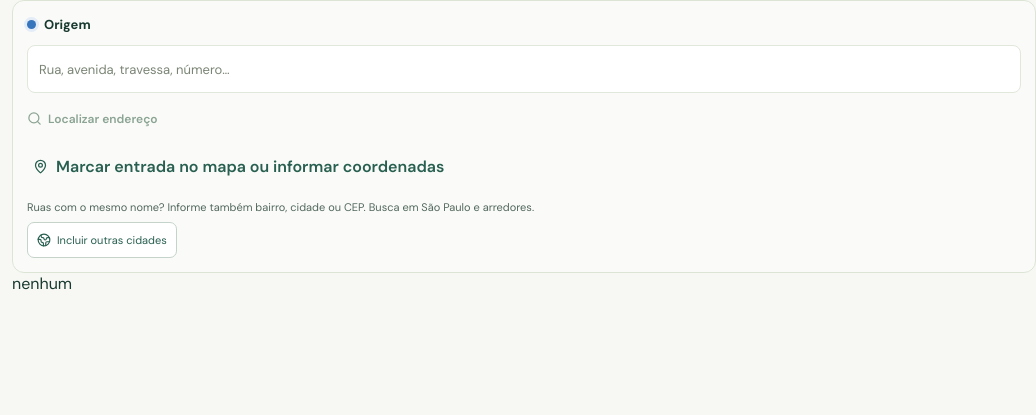
Test: permite escolher ruas homônimas em bairros diferentes sem perder as coordenadas
Step 1. Type "Rua dos Campos, 42" into the dropdown → (524, 68), box 28,46 -> 1020,92
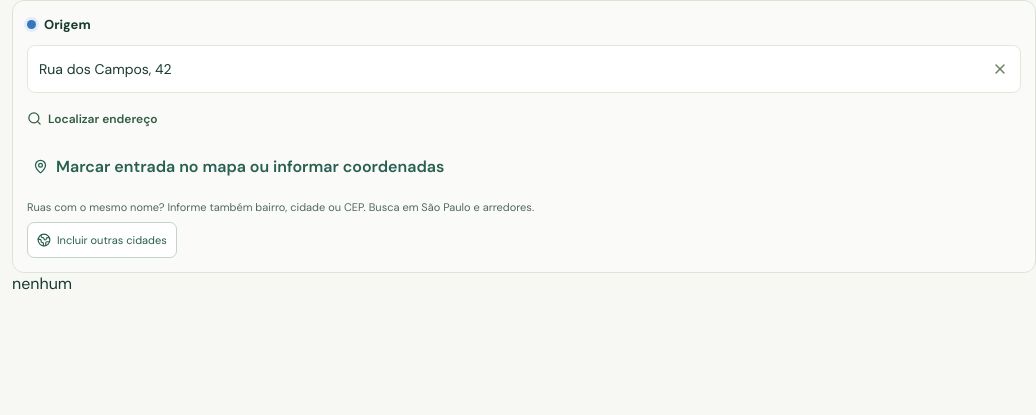
Step 2. Click the button with aria-label "Localizar origem" → (92, 114), box 27,92 -> 158,136
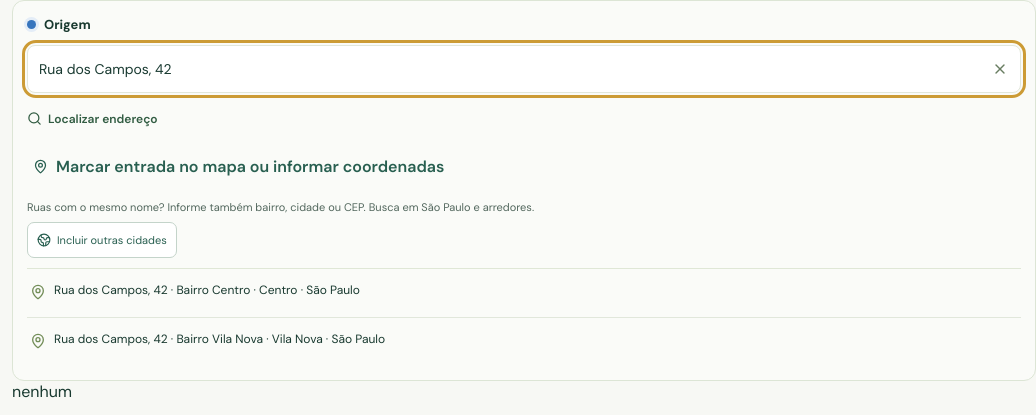
expect the option "Rua dos Campos, 42 · Bairro Centro · Centro · São Paulo" is shown: met, box 27,269 -> 1021,317
Step 3. Click the option "Vila Nova" → (220, 339), box 27,318 -> 1021,366
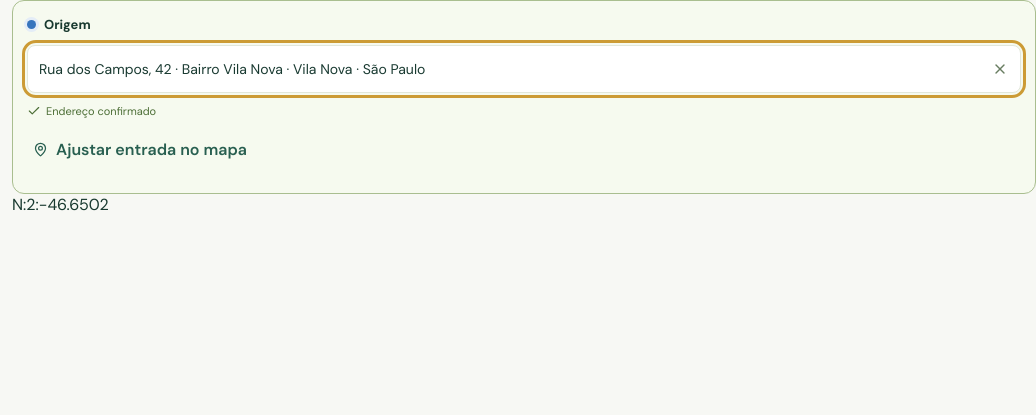
expect the text named "Ponto escolhido" reads "N:2:-46.6502": met, box 12,194 -> 109,215
